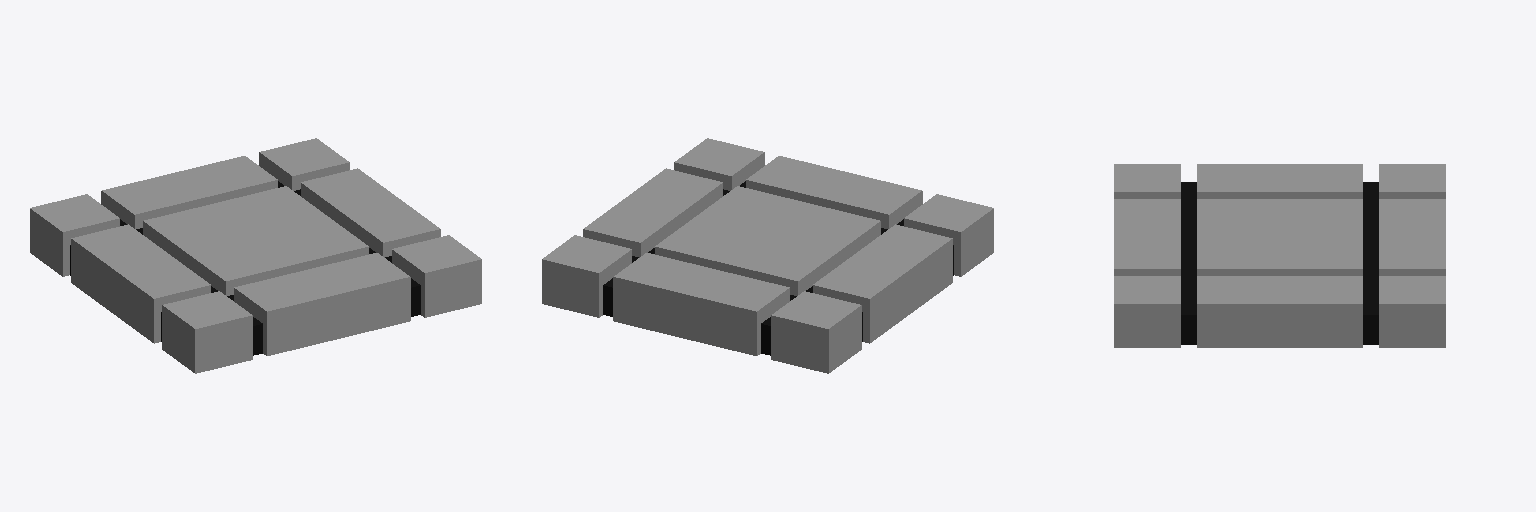
Rendered from floor.obj.
The picture shows the model from 3 angles: view 1: azimuth 30°, elevation 25°; view 2: azimuth 150°, elevation 25°; view 3: azimuth 270°, elevation 25°; orthographic projection.
Parts seen in each view (by area): view 1: floor_tile_Cube.003; view 2: floor_tile_Cube.003; view 3: floor_tile_Cube.003.
Boxes of the visible parts, x1,y1,x2,y2 form: floor_tile_Cube.003: [30, 138, 481, 373]; floor_tile_Cube.003: [542, 138, 993, 373]; floor_tile_Cube.003: [1114, 164, 1445, 347].
Bounding box in the file's own units: 2 × 0.2978 × 2.